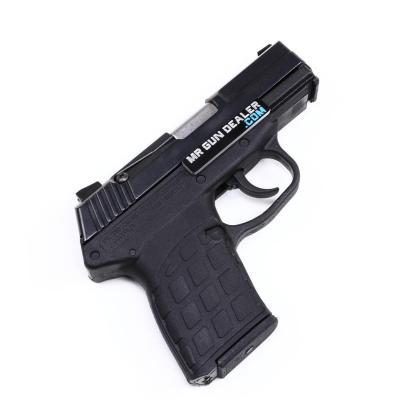Pistol: (74, 39, 321, 386)
